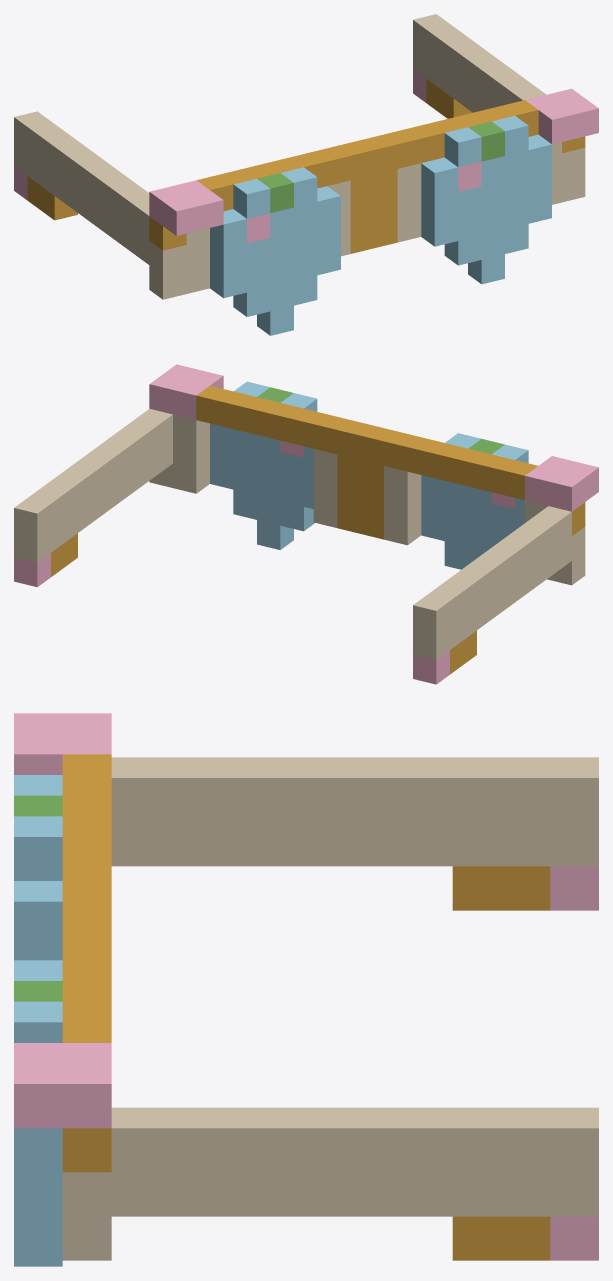
The model's file is britney-acc2.3f2e060e.glb.
3 renders of one model, top to bottom at view 1: azimuth 30°, elevation 25°; view 2: azimuth 150°, elevation 25°; view 3: azimuth 270°, elevation 25°, orthographic. The views are drawn at different scales.
Parts seen in each view (by area): view 1: celeste, beige, dorado, rosa, verde; view 2: beige, dorado, celeste, rosa, verde; view 3: beige, dorado, celeste, rosa, verde.
Boxes of the visible parts, x1=… form: celeste: x1=210, y1=116, x2=551, y2=335; beige: x1=14, y1=14, x2=585, y2=299; dorado: x1=27, y1=79, x2=585, y2=253; rosa: x1=14, y1=69, x2=598, y2=243; verde: x1=257, y1=121, x2=504, y2=212; beige: x1=14, y1=408, x2=585, y2=659; dorado: x1=51, y1=386, x2=585, y2=674; celeste: x1=210, y1=381, x2=528, y2=569; rosa: x1=14, y1=364, x2=598, y2=684; verde: x1=257, y1=387, x2=504, y2=454; beige: x1=62, y1=757, x2=598, y2=1260; dorado: x1=62, y1=754, x2=550, y2=1260; celeste: x1=14, y1=775, x2=62, y2=1266; rosa: x1=14, y1=713, x2=598, y2=1260; verde: x1=14, y1=795, x2=62, y2=1001.
Bounding box in the file's own units: 0.33 × 0.11 × 0.22.
